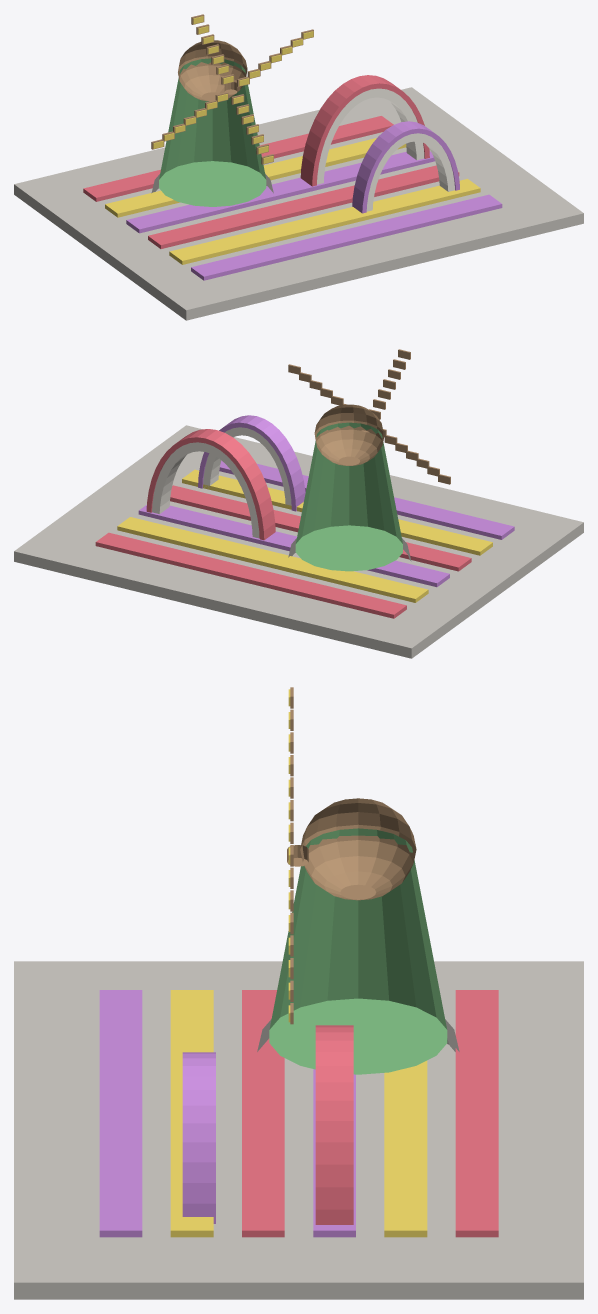
File: lm_74_fresh_garden_dalat_windmill_flower_gate.glb
The picture shows the model from 3 angles, top to bottom: view 1: azimuth 30°, elevation 25°; view 2: azimuth 150°, elevation 25°; view 3: azimuth 270°, elevation 25°; orthographic projection. The views are drawn at different scales.
Parts seen in each view (by area): view 1: lm_74_fresh_garden_dalat_windmill_flower_gate; view 2: lm_74_fresh_garden_dalat_windmill_flower_gate; view 3: lm_74_fresh_garden_dalat_windmill_flower_gate.
Part boxes in pixels (x1,y1,x2,y2): lm_74_fresh_garden_dalat_windmill_flower_gate: (14,14,583,320); lm_74_fresh_garden_dalat_windmill_flower_gate: (14,349,583,658); lm_74_fresh_garden_dalat_windmill_flower_gate: (14,687,583,1299).
Size of the model in its own units: 32 by 16.9 by 24.
